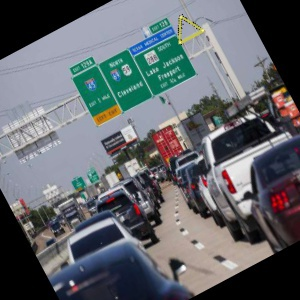triangle: (175, 10, 205, 46)
